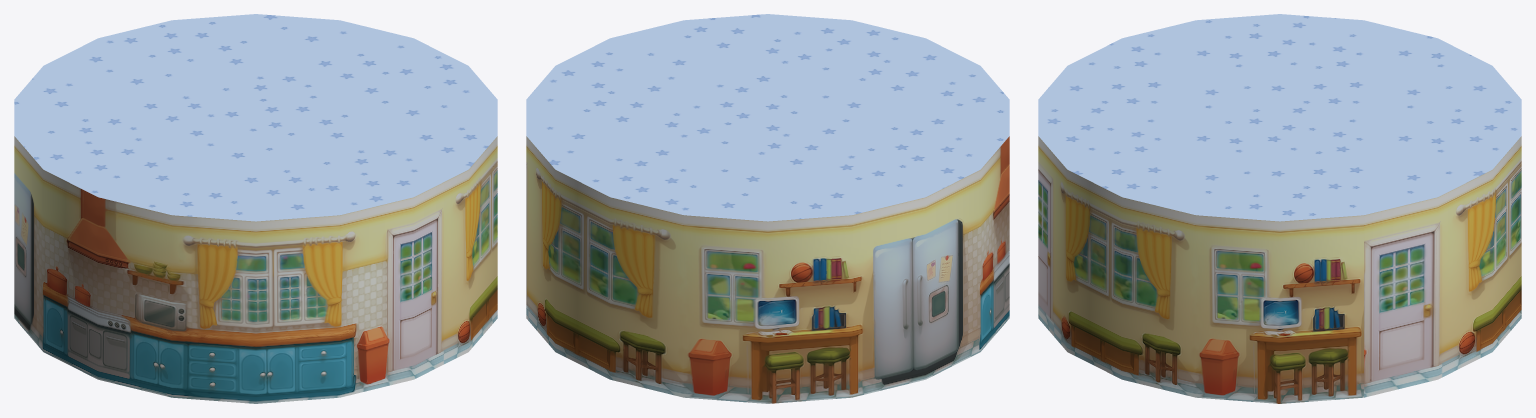
File: room.FBX
3 views of the same model, side by side, from view 1: azimuth 30°, elevation 25°; view 2: azimuth 150°, elevation 25°; view 3: azimuth 270°, elevation 25° (orthographic).
Parts seen in each view (by area): view 1: room_01; view 2: room_01; view 3: room_01.
Part boxes in pixels (x1=…): room_01: x1=14, y1=14, x2=497, y2=403; room_01: x1=526, y1=14, x2=1009, y2=403; room_01: x1=1038, y1=14, x2=1521, y2=403.
Bounding box in the file's own units: 73.03 × 29.94 × 71.92.
